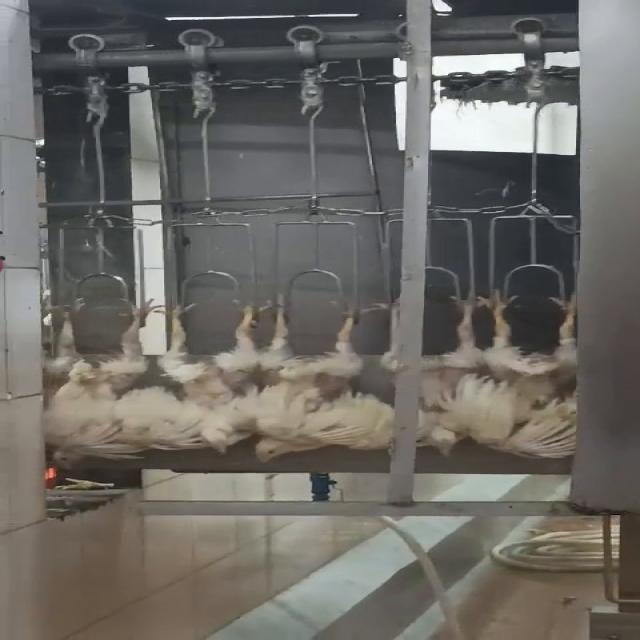chicken: (39, 294, 168, 474), (247, 298, 381, 468), (146, 295, 272, 459), (478, 282, 582, 465), (418, 288, 482, 459)
